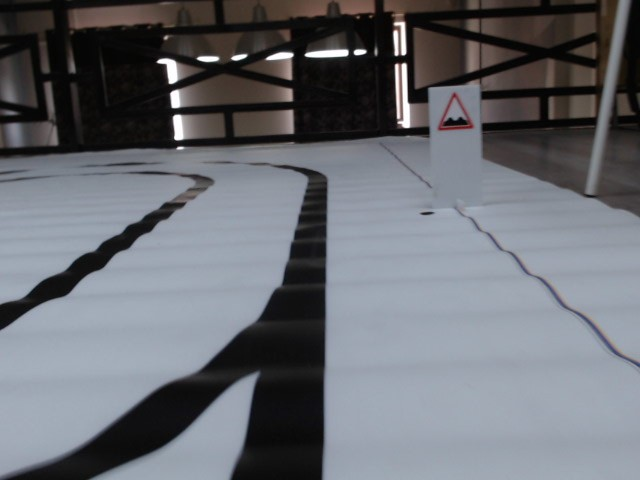Nerov: (434, 90, 479, 134)
